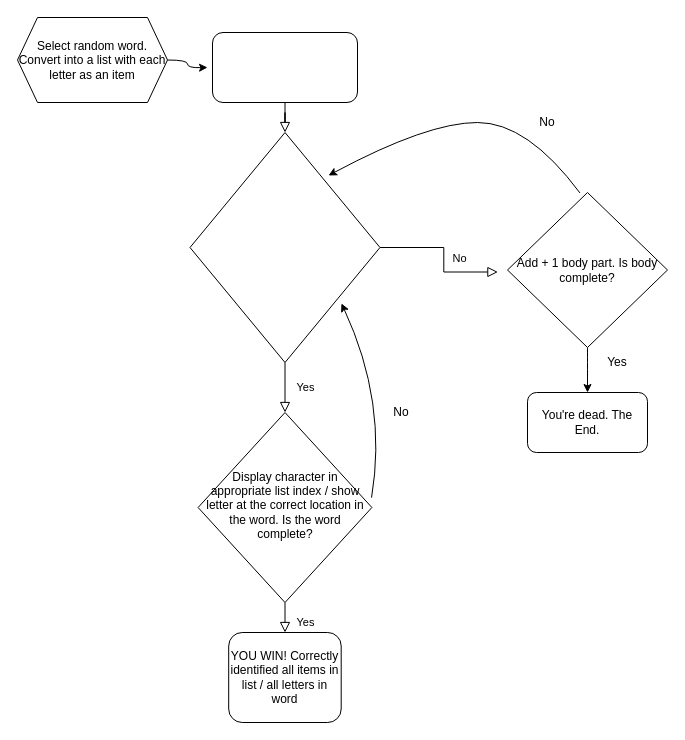
Some shapes in this 685 by 740 pixel diagram are drawn without their labels. Here are the shapes that lost their labels. From the top down, the box of each, then its label:
(212, 32, 358, 102): Guess all items within the list answer[] before adding X amount of body parts
(189, 132, 380, 362): Input character. Check if it is an item in answer[]. Is it an item?
